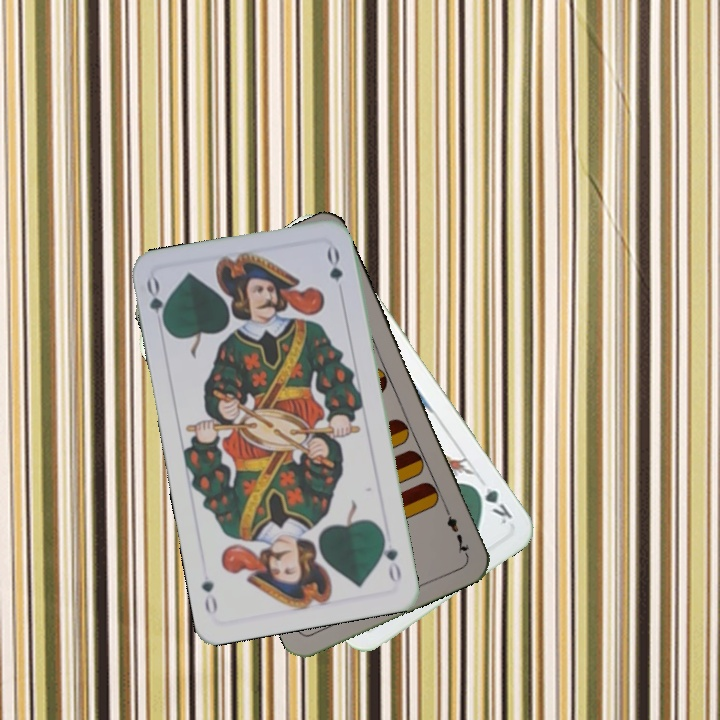E7: (440, 501, 472, 558)
GK: (469, 479, 515, 527)
GO: (142, 274, 170, 334), (377, 528, 404, 586)
